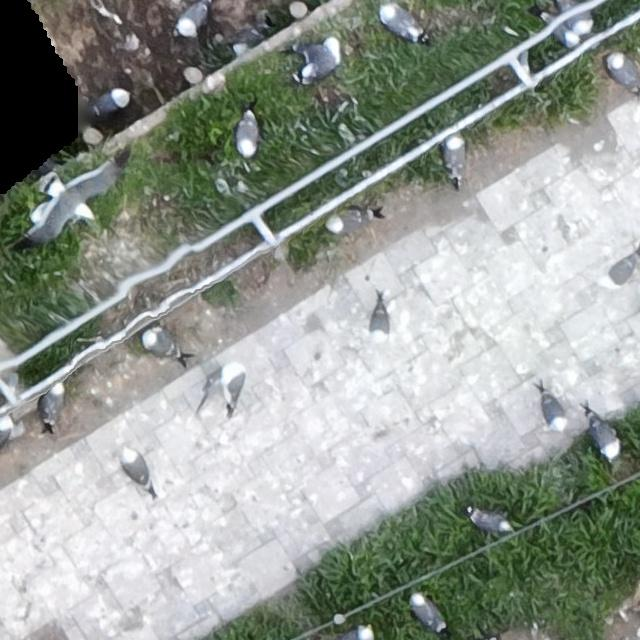F: (23, 153, 129, 250)
umineko: (301, 37, 341, 81), (591, 411, 621, 463), (596, 253, 638, 288), (554, 2, 596, 34), (543, 17, 579, 49), (384, 10, 420, 40), (123, 454, 148, 490), (178, 2, 206, 34), (236, 114, 256, 154), (542, 394, 565, 428), (333, 211, 370, 232), (143, 332, 178, 354), (94, 88, 126, 112), (610, 56, 636, 85), (411, 597, 433, 628), (445, 139, 462, 173), (44, 389, 62, 421), (473, 512, 505, 530), (372, 308, 388, 339), (226, 374, 242, 405), (340, 627, 365, 639)
